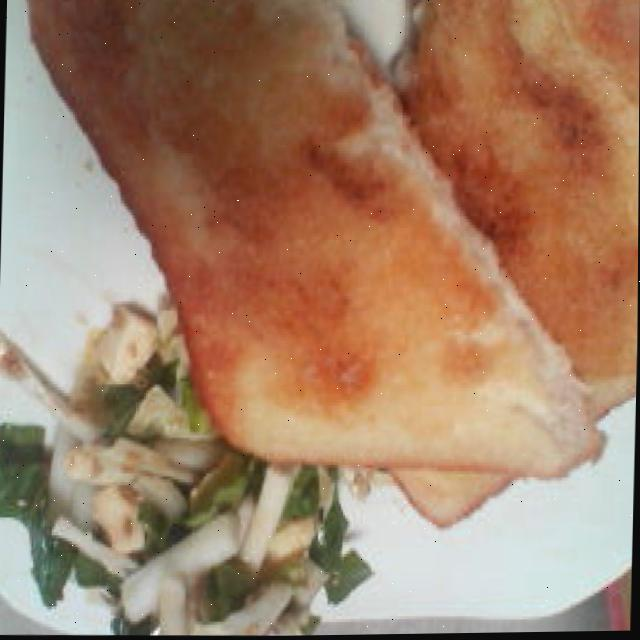面包点心: (4, 0, 640, 527)
